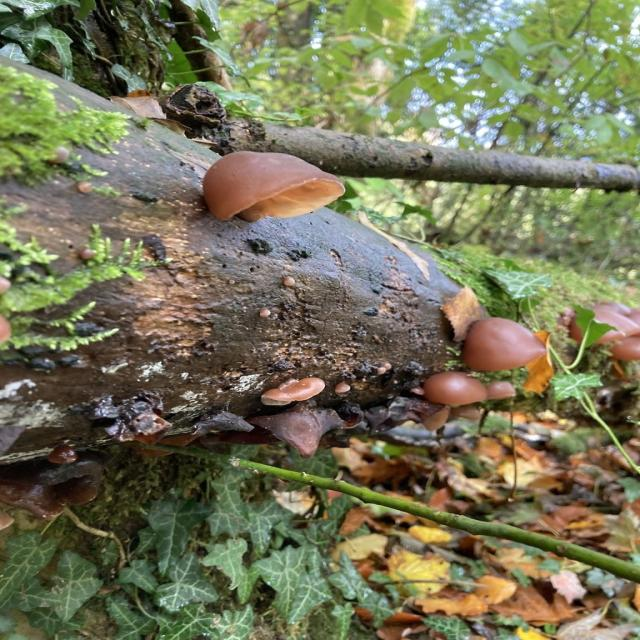Fase Muda: (206, 150, 333, 244), (460, 314, 554, 378), (254, 372, 328, 417), (424, 369, 492, 414), (483, 377, 523, 400)
primordia: (333, 380, 355, 400), (281, 276, 298, 286), (258, 308, 272, 319), (381, 362, 395, 372)
